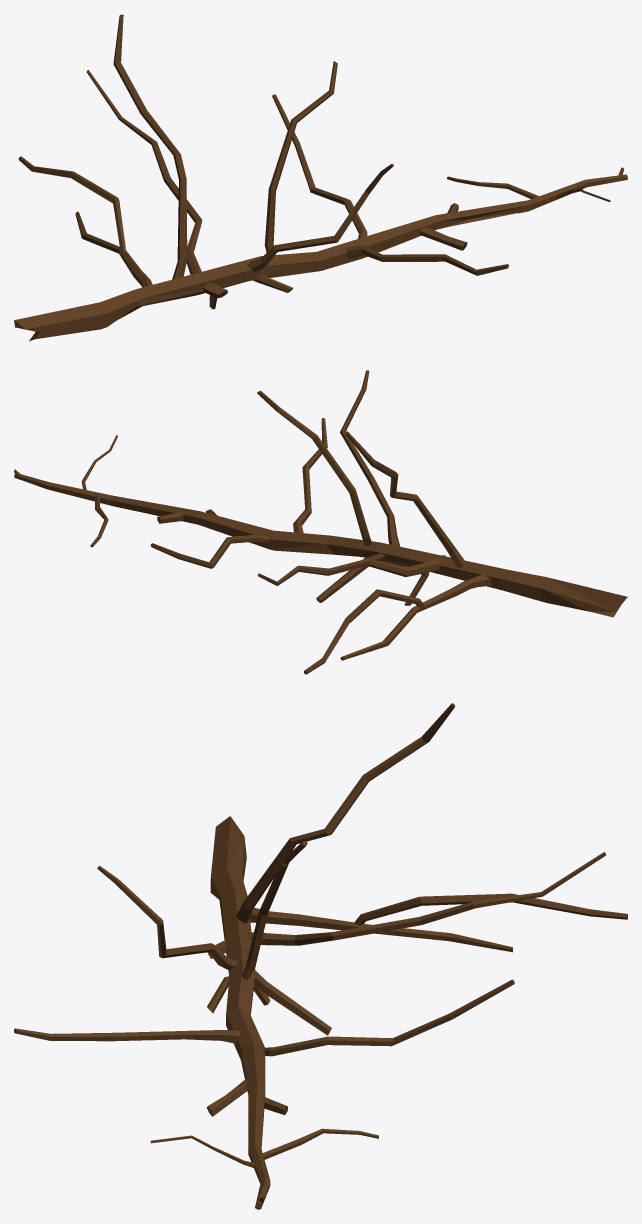
The model's file is tree-pine-fallen-a.gltf.
3 views of the same model, one above another, from view 1: azimuth 30°, elevation 25°; view 2: azimuth 150°, elevation 25°; view 3: azimuth 270°, elevation 25° (orthographic). The views are drawn at different scales.
Parts seen in each view (by area): view 1: tree-pine-fallen-a; view 2: tree-pine-fallen-a; view 3: tree-pine-fallen-a.
Boxes of the visible parts, box(x1,y1,x2,y2) form: tree-pine-fallen-a: box(14, 14, 627, 341); tree-pine-fallen-a: box(14, 370, 627, 674); tree-pine-fallen-a: box(14, 703, 627, 1209).
Bounding box in the file's own units: 0.0926 × 0.0343 × 0.0651.
